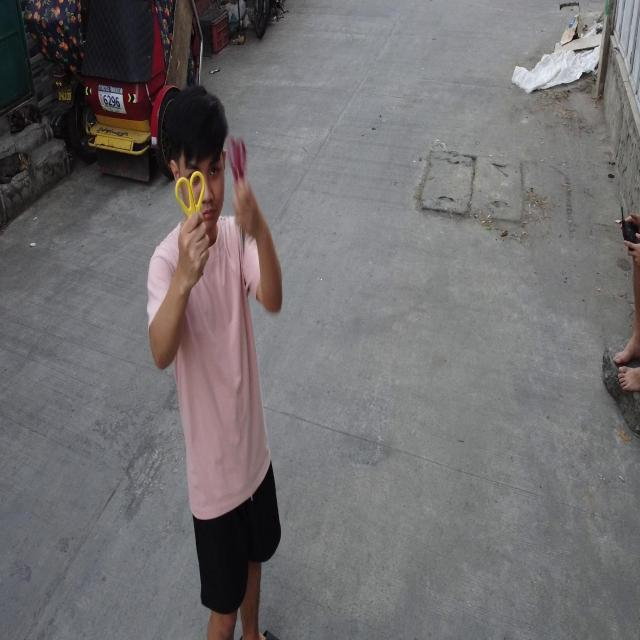scissor: (175, 170, 205, 278)
